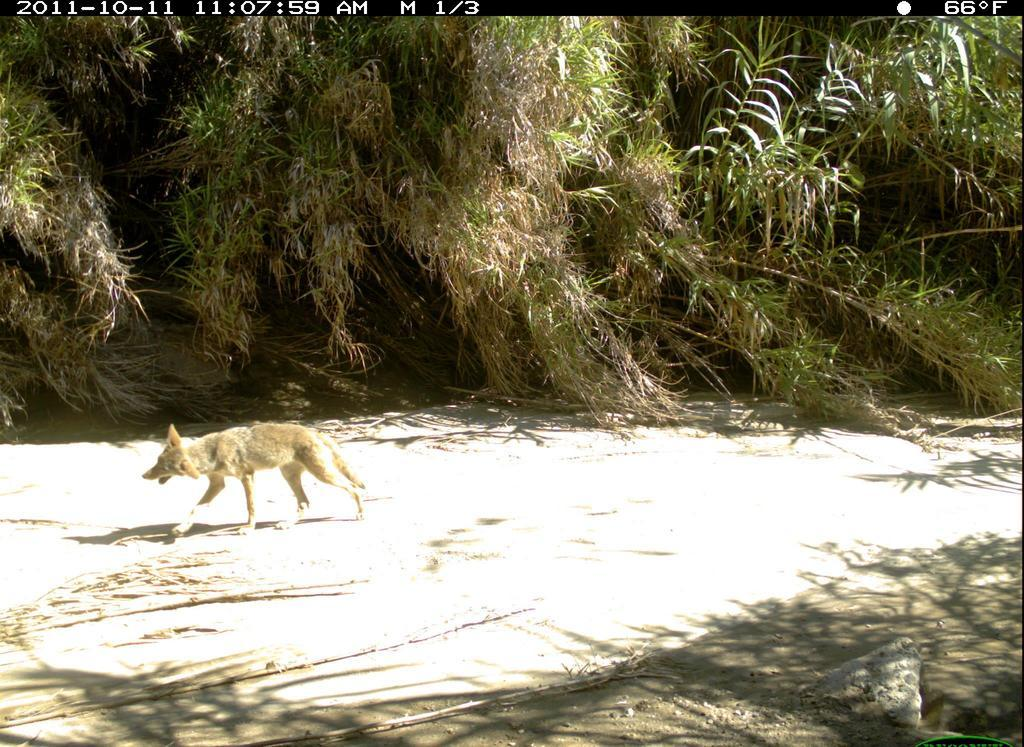coyote: (131, 417, 389, 548)
